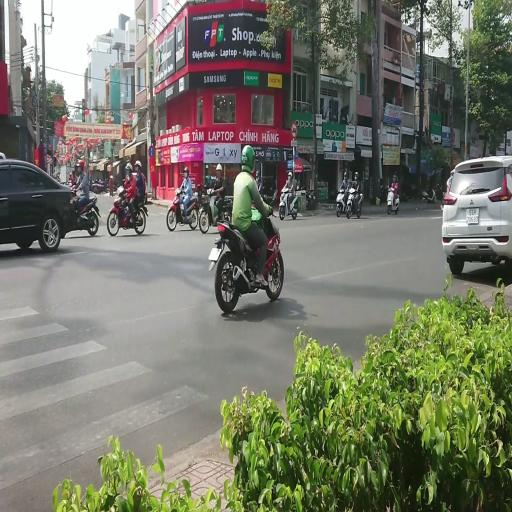bikes: (208, 192, 284, 313), (106, 185, 146, 236), (198, 188, 232, 233), (166, 187, 199, 231), (70, 188, 99, 236), (278, 187, 298, 220), (345, 186, 363, 218), (336, 184, 350, 216), (386, 185, 400, 214), (195, 183, 208, 209), (421, 187, 437, 205), (91, 178, 108, 194), (224, 196, 234, 222), (256, 175, 266, 197), (305, 188, 315, 209), (53, 169, 61, 183)
helmet: (241, 144, 255, 172), (74, 160, 85, 176), (134, 160, 142, 169), (125, 162, 132, 172), (74, 164, 80, 174), (184, 167, 189, 177), (78, 160, 84, 168), (118, 186, 124, 194), (256, 170, 260, 182), (216, 164, 222, 171), (175, 188, 181, 195), (74, 163, 80, 168), (263, 194, 267, 201), (288, 172, 292, 178), (256, 170, 260, 176), (450, 170, 454, 176), (353, 181, 357, 187), (72, 168, 76, 174), (395, 183, 398, 190), (355, 172, 358, 178), (69, 172, 72, 178), (393, 176, 396, 181), (110, 175, 113, 179), (391, 184, 394, 188), (344, 172, 346, 176)
